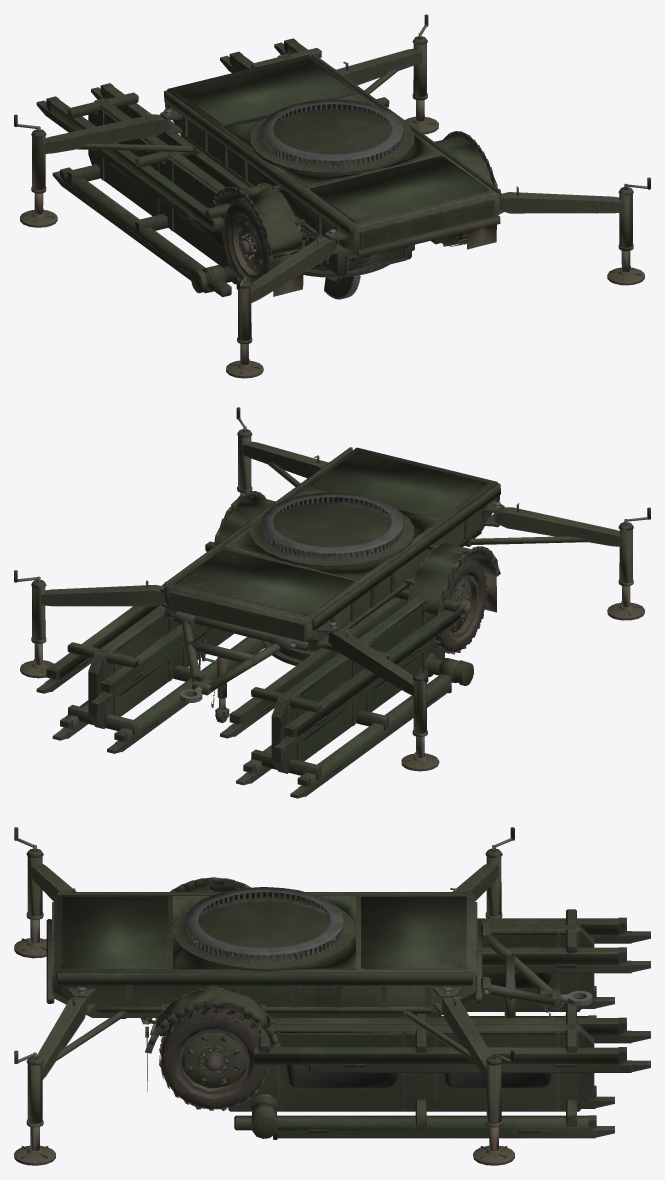
File: hawk21_lo.glb
The picture shows the model from 3 angles, top to bottom: view 1: azimuth 30°, elevation 25°; view 2: azimuth 150°, elevation 25°; view 3: azimuth 270°, elevation 25°; orthographic projection. The views are drawn at different scales.
Visible parts, largest first — view 1: body|HK_H, cradle|HK_T, turret|HK_T; view 2: body|HK_H, cradle|HK_T; view 3: body|HK_H, cradle|HK_T.
Boxes of the visible parts, <box> form: body|HK_H: <box>14,14,650,378</box>; cradle|HK_T: <box>36,38,440,299</box>; turret|HK_T: <box>303,238,411,277</box>; body|HK_H: <box>14,407,650,771</box>; cradle|HK_T: <box>36,541,473,798</box>; body|HK_H: <box>14,827,592,1165</box>; cradle|HK_T: <box>228,909,650,1139</box>.
Bounding box in the file's own units: 4.43 × 1.7 × 5.29.
Materials: 3 (3 with a texture image).
